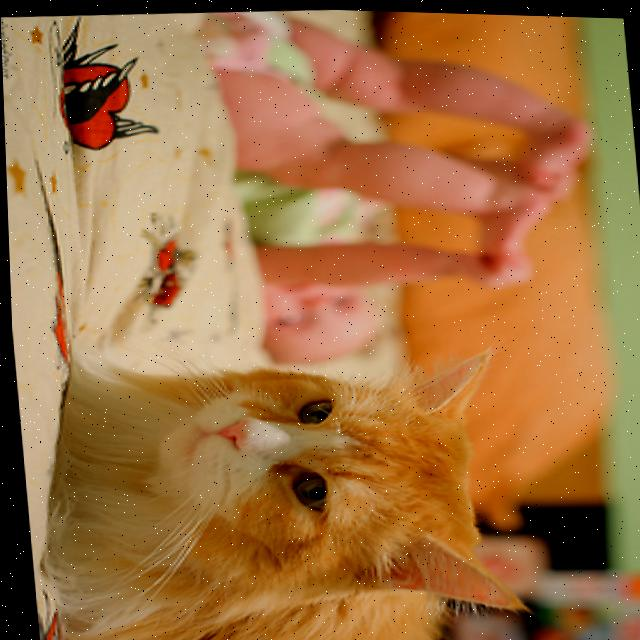Maine Coon: (21, 325, 530, 640)
